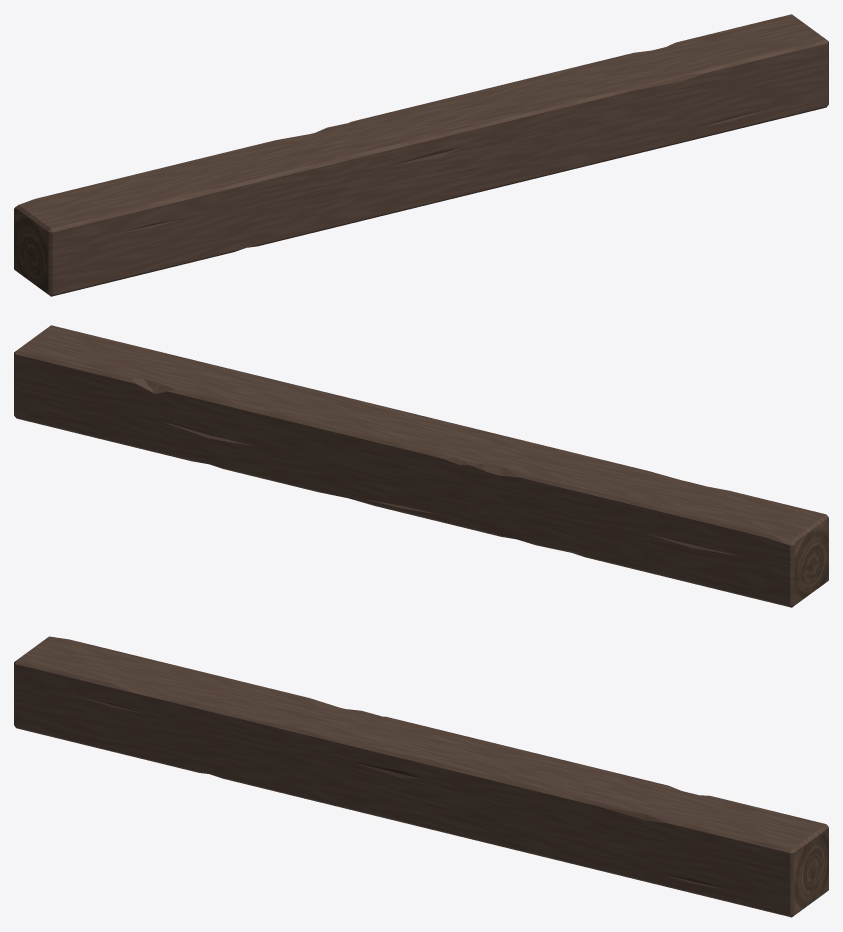
Rendered from log_horizontal_square.fbx.
3 renders of one model, top to bottom at view 1: azimuth 30°, elevation 25°; view 2: azimuth 150°, elevation 25°; view 3: azimuth 330°, elevation 25°, orthographic.
Visible parts, largest first — view 1: Cube; view 2: Cube; view 3: Cube.
Boxes of the visible parts, left/top/right/bottom form: Cube: left=14, top=14, right=828, bottom=296; Cube: left=14, top=325, right=828, bottom=607; Cube: left=14, top=636, right=828, bottom=917.
Bounding box in the file's own units: 1200 × 100 × 100.
1 material, 1 textured.
